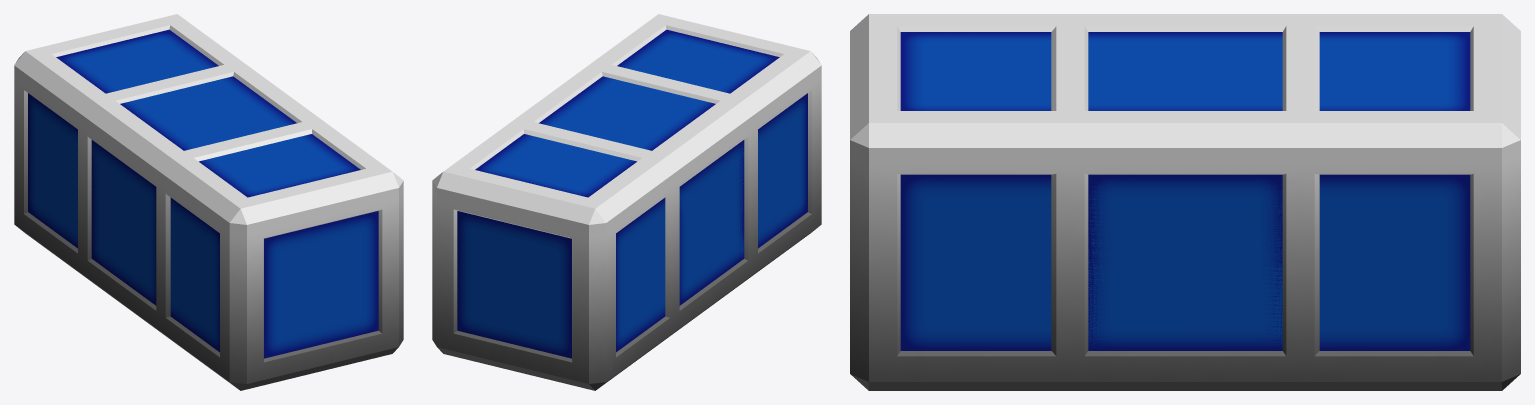
Rendered from Cargo.fbx.
3 views of the same model, side by side, from view 1: azimuth 30°, elevation 25°; view 2: azimuth 150°, elevation 25°; view 3: azimuth 270°, elevation 25° (orthographic). The views are drawn at different scales.
Parts seen in each view (by area): view 1: Cargo1x2, Cargo1x1; view 2: Cargo1x2, Cargo1x1; view 3: Cargo1x2, Cargo1x1.
Boxes of the visible parts, <box> form: Cargo1x2: <box>14,14,403,390</box>; Cargo1x1: <box>78,65,312,342</box>; Cargo1x2: <box>432,14,821,390</box>; Cargo1x1: <box>523,65,757,342</box>; Cargo1x2: <box>850,14,1520,390</box>; Cargo1x1: <box>1051,26,1319,390</box>.
Size of the model in its own units: 78.81 by 78.81 by 179.
Materials: 1 (1 with a texture image).
